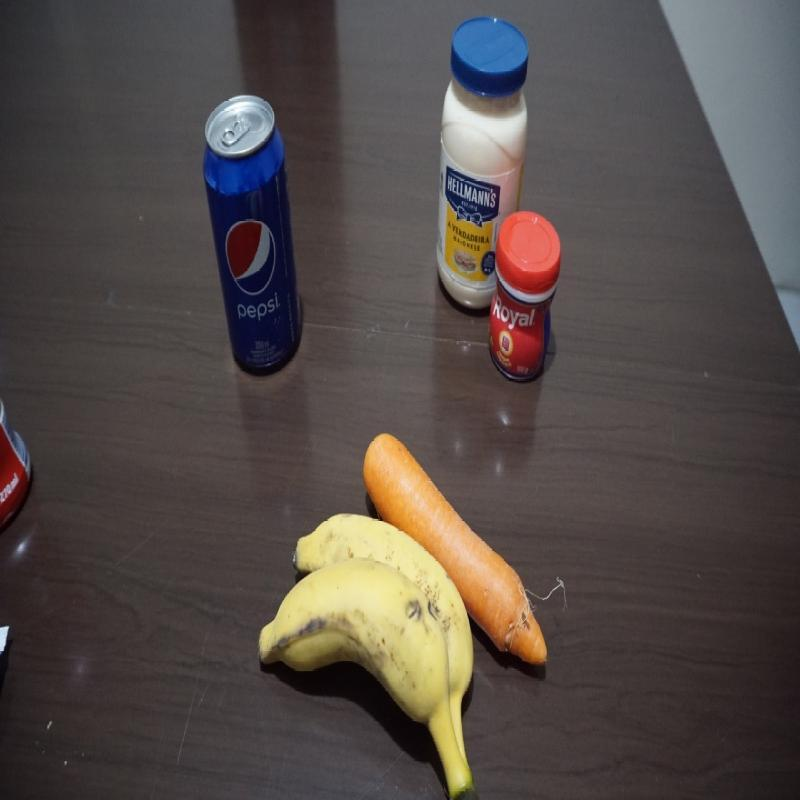Banana: (247, 509, 471, 800)
Carrot: (369, 424, 558, 670)
Mayonnaise: (438, 23, 514, 326)
Soda can: (200, 85, 313, 376)
Yeast: (490, 215, 562, 388)
